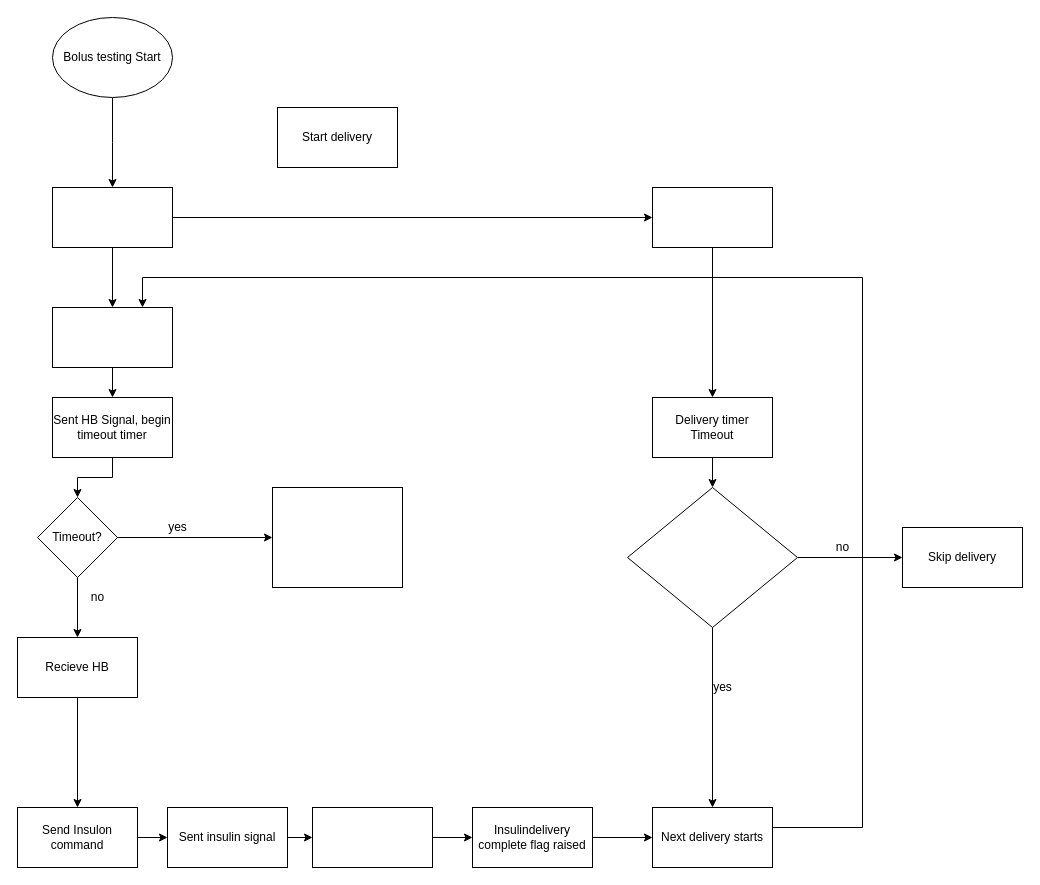
This 1040x885 diagram has some shape labels left out. The box of each missing label's shape, as (x1, y1, x2, y2) in pixels:
Delivery Timer triggered: (52, 186, 172, 248)
Is Insulindelivery flag raised: (626, 486, 798, 628)
Recieve IN: (312, 806, 432, 868)
Send HB: (52, 306, 172, 368)
Stop heartbeat,delivery timer begin timeout protocol: (272, 486, 402, 588)
Timer Reset, continues ticking: (652, 186, 772, 248)
